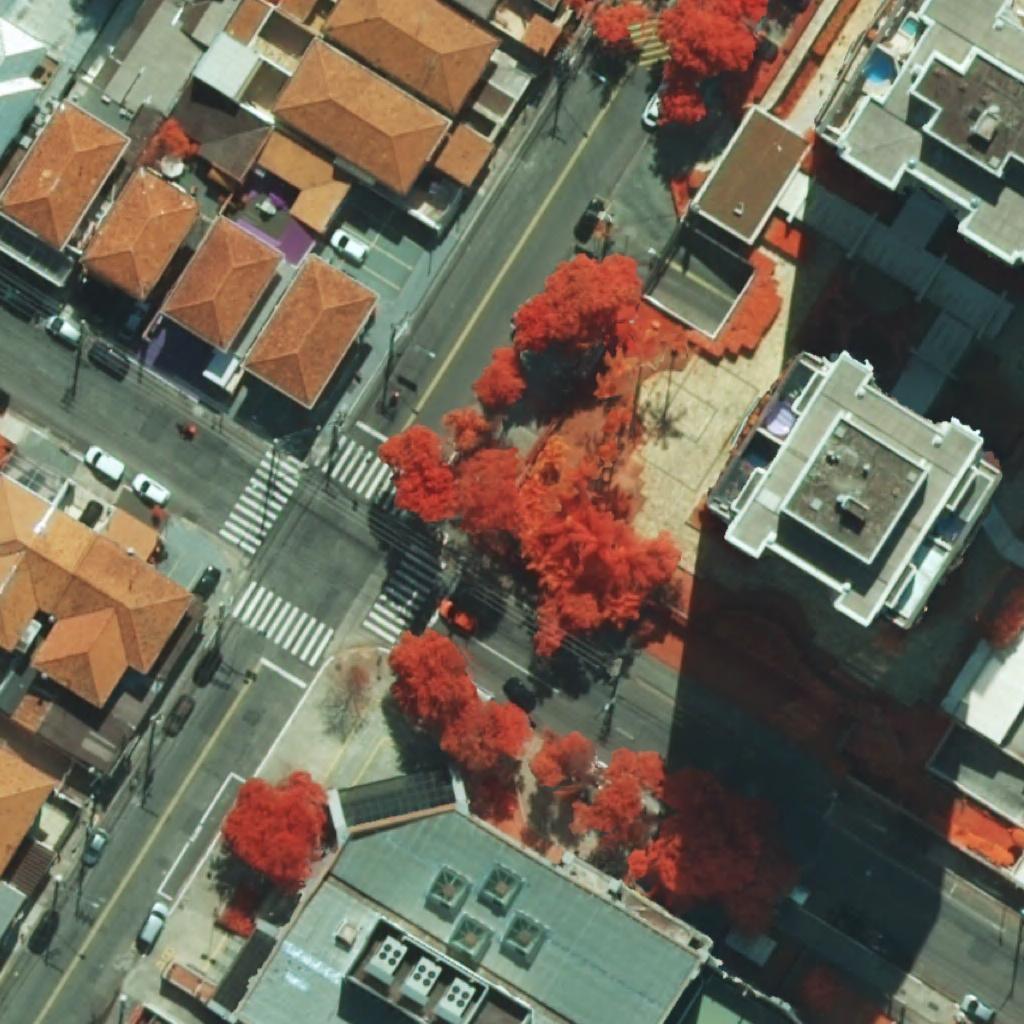pool: (863, 48, 891, 83), (902, 16, 919, 35)
